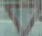Give way: (2, 2, 41, 34)
